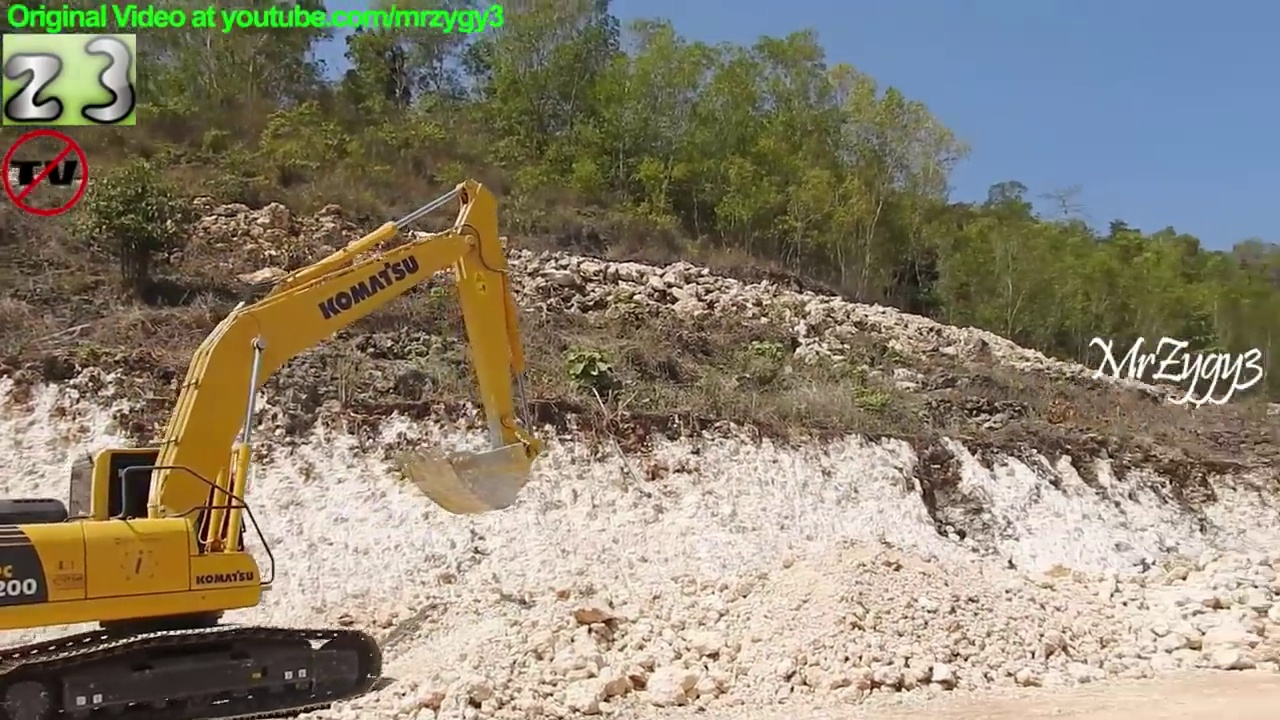excavator: (2, 176, 538, 720)
